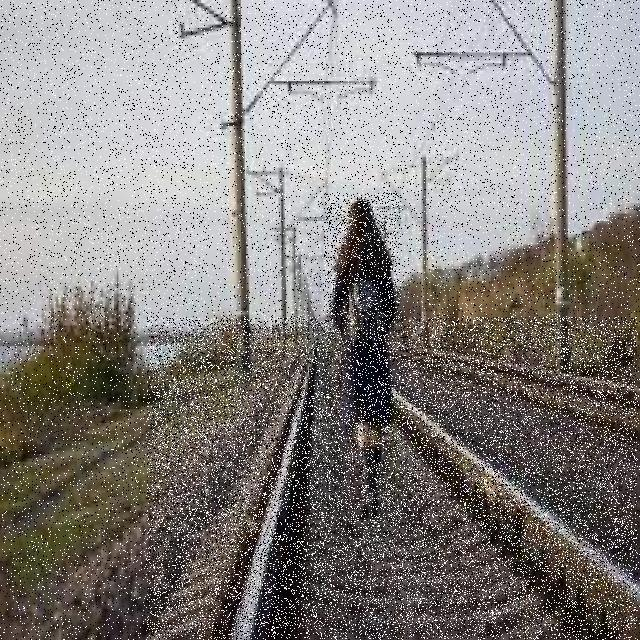danger: (324, 193, 401, 553)
rail: (148, 318, 637, 639)
